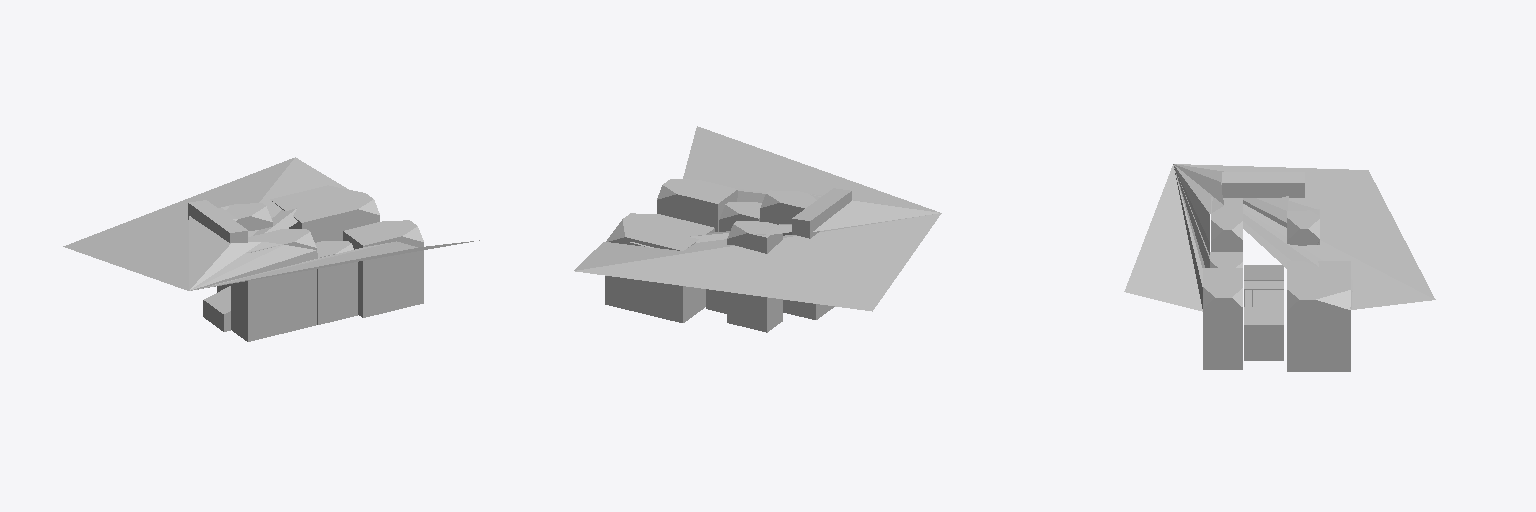
Rendered from acueducto.obj.
The picture shows the model from 3 angles: view 1: azimuth 30°, elevation 25°; view 2: azimuth 150°, elevation 25°; view 3: azimuth 270°, elevation 25°; orthographic projection.
Visible parts, largest first — view 1: Cube; view 2: Cube; view 3: Cube.
Part boxes in pixels (x1,y1,x2,y2): Cube: (63,157,479,341); Cube: (574,126,941,332); Cube: (1124,164,1435,371).
Size of the model in its own units: 16.91 by 6.23 by 15.32.